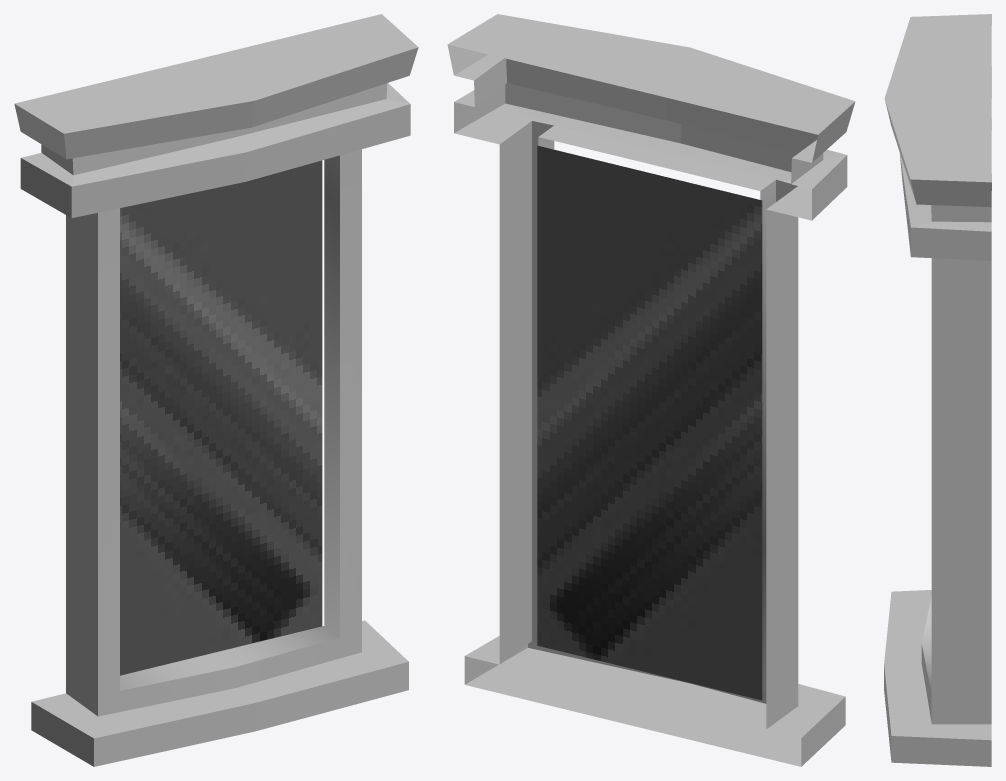
File: window2.FBX
3 renders of one model, left to right at view 1: azimuth 30°, elevation 25°; view 2: azimuth 150°, elevation 25°; view 3: azimuth 270°, elevation 25°, orthographic. The views are drawn at different scales.
Visible parts, largest first — view 1: frame, glass; view 2: glass, frame; view 3: frame.
Part boxes in pixels (bbox=[...]): frame: bbox=[14, 14, 418, 766]; glass: bbox=[120, 160, 322, 675]; glass: bbox=[537, 145, 762, 700]; frame: bbox=[447, 14, 855, 766]; frame: bbox=[884, 14, 991, 766].
Bounding box in the file's own units: 1.24 × 2.04 × 0.3358.
